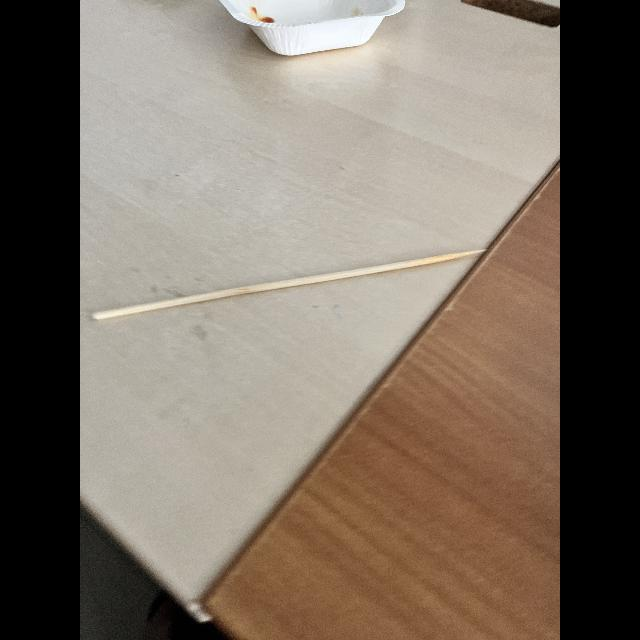cardboard_bowl: (210, 0, 420, 78)
stick: (84, 226, 498, 350)
